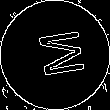M_W: (26, 28, 84, 82)
